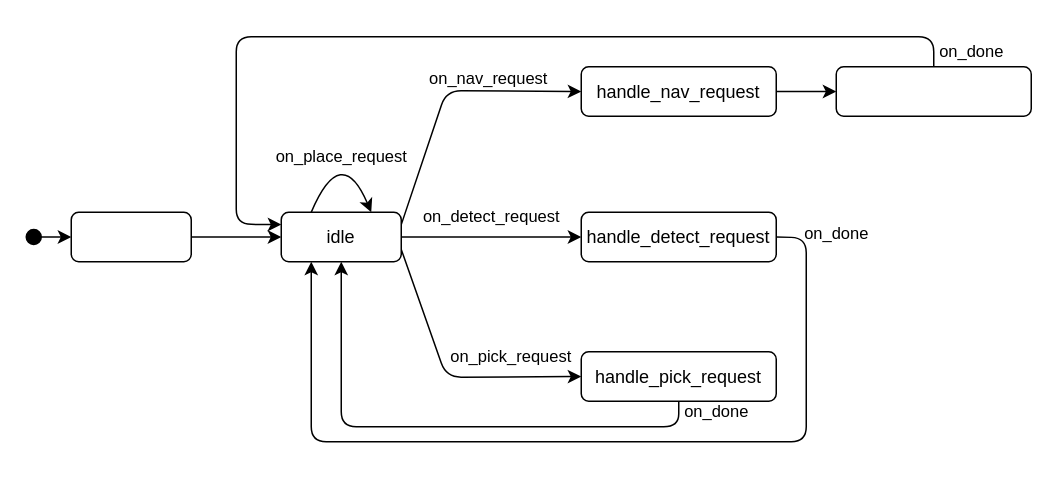
The diagram is 1058 pixels wide and 480 high, and some of its shapes have lost their labels. Each missing label, with the centre of its shape:
init: point 130,236
navigate_to_target: point 933,90
